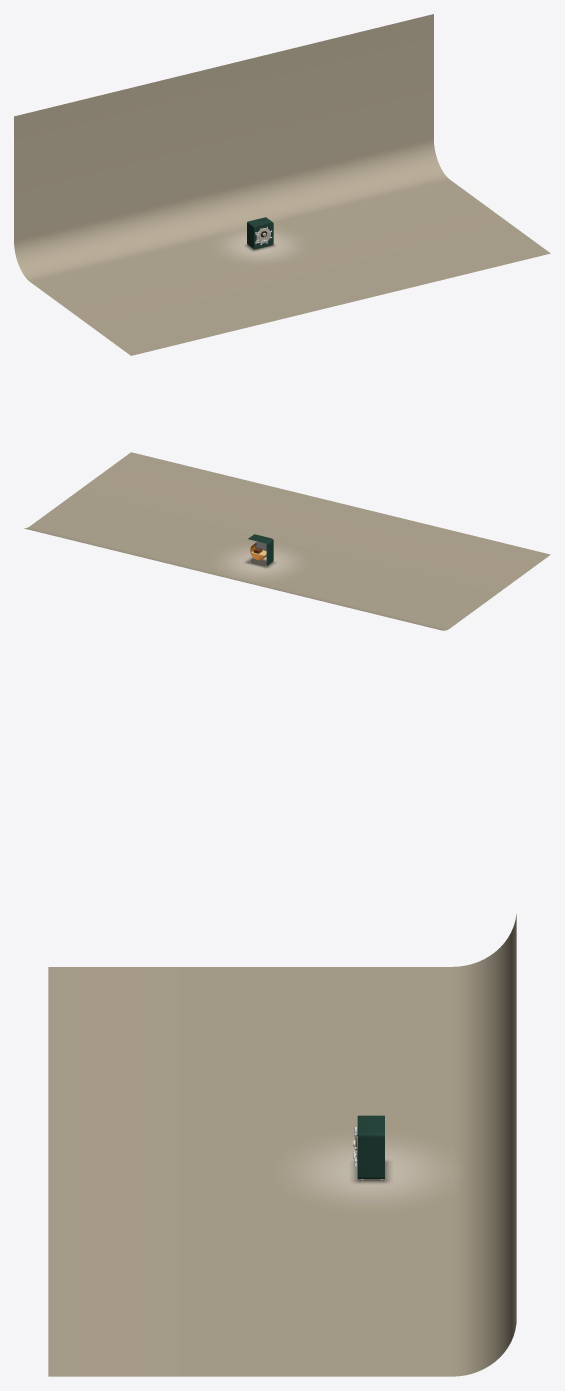
The model's file is combinationsafedial_safe.glb.
The picture shows the model from 3 angles, top to bottom: view 1: azimuth 30°, elevation 25°; view 2: azimuth 150°, elevation 25°; view 3: azimuth 270°, elevation 25°; orthographic projection. The views are drawn at different scales.
Visible parts, largest first — view 1: Sweep, Housing; view 2: Sweep, Housing; view 3: Sweep, Housing.
Part boxes in pixels (box(x1,y1,x2,y2)): Sweep: box(14, 14, 550, 355); Housing: box(247, 217, 273, 249); Sweep: box(24, 452, 550, 630); Housing: box(248, 534, 273, 565); Sweep: box(48, 914, 516, 1376); Housing: box(357, 1115, 384, 1178).
Bounding box in the file's own units: 12 × 4.2 × 5.8.
Materials: 13 (4 with a texture image).
